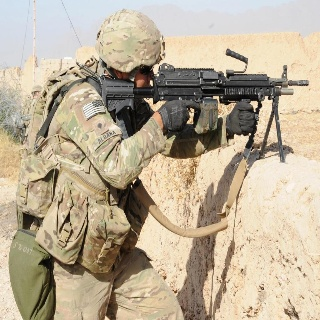rifle: (99, 46, 310, 135)
